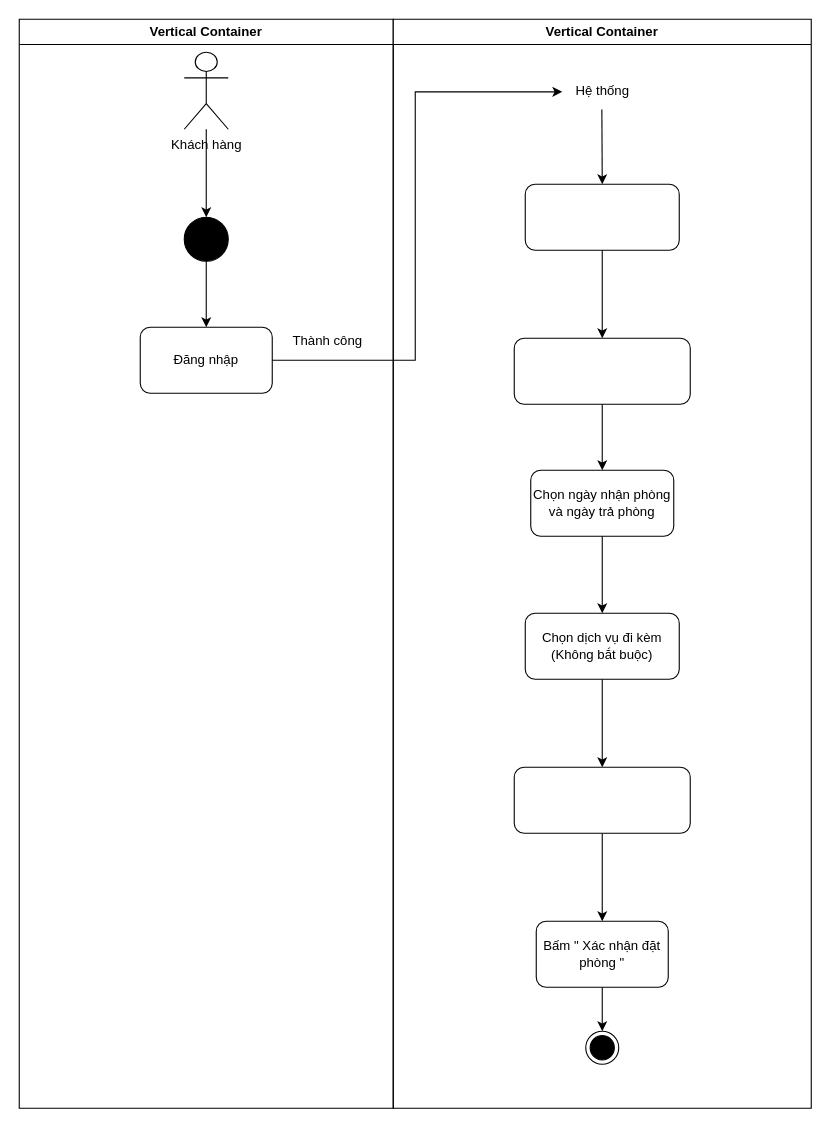
Some shapes in this 831 by 1128 pixel diagram are drawn without their labels. Here are the shapes that lost their labels. From the top down, the box of each, then its label:
(524, 183, 679, 250): Chọn khách sạn
(513, 337, 690, 404): Hiển thị các loại phòng còn trống
(513, 766, 690, 833): Sau khi chọn xong sẽ hiển thị tổng chi phí dự kiến
